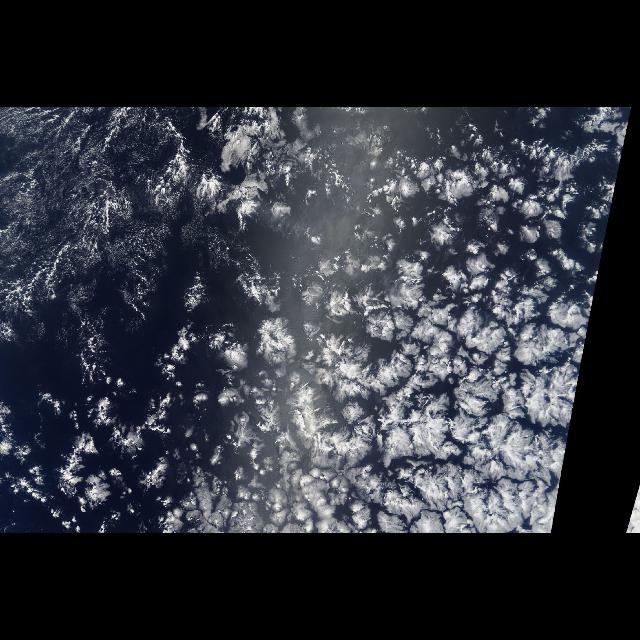Flower: (8, 109, 604, 533)
Sugar: (1, 110, 325, 382)
